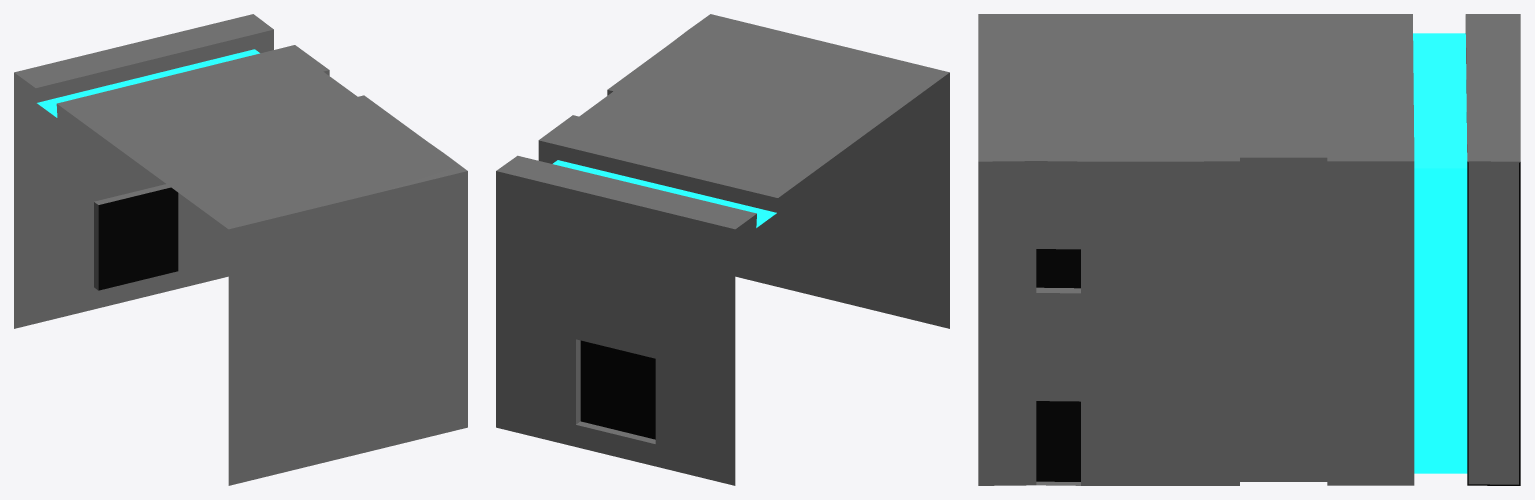
Rendered from HousePhase1.fbx.
The picture shows the model from 3 angles, left to right: view 1: azimuth 30°, elevation 25°; view 2: azimuth 150°, elevation 25°; view 3: azimuth 270°, elevation 25°; orthographic projection. The views are drawn at different scales.
Parts seen in each view (by area): view 1: Box001; view 2: Box001; view 3: Box001.
Part boxes in pixels (x1,y1,x2,y2): Box001: (14,14,467,485); Box001: (496,14,949,485); Box001: (978,14,1520,485).
Size of the model in its own units: 29.98 by 46.54 by 30.76.
